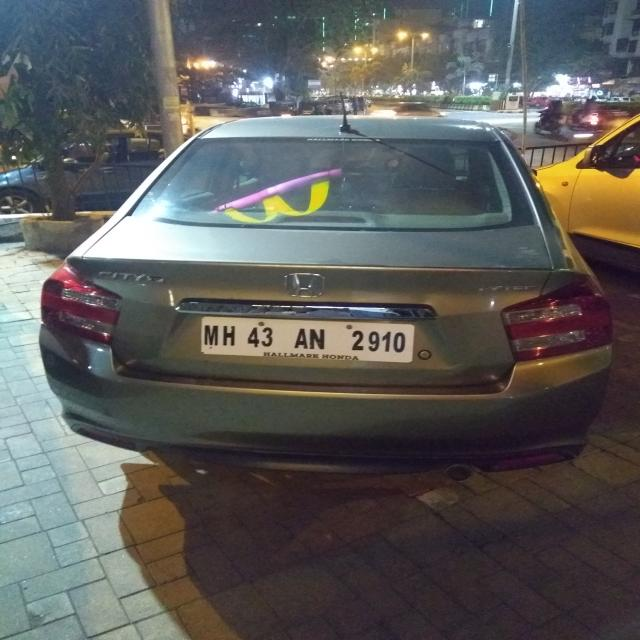Number-Plate: (204, 315, 417, 358)
